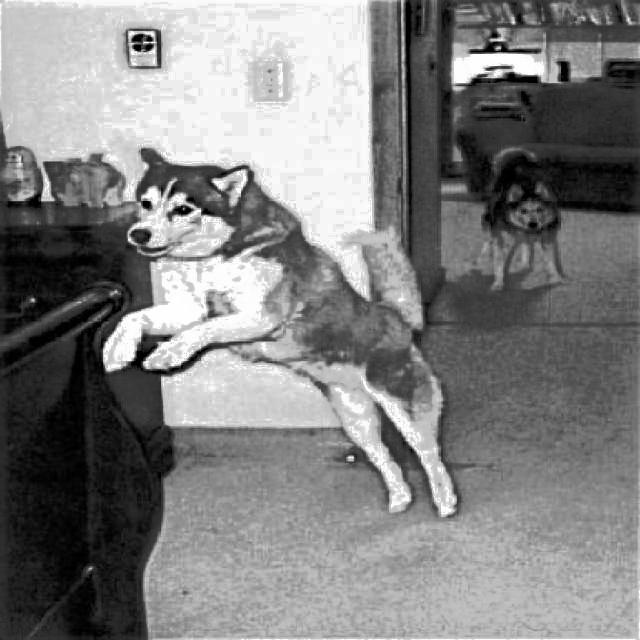Dog: (97, 135, 476, 529), (472, 145, 570, 296)
